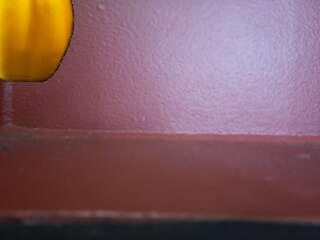Capsicum: (0, 0, 76, 84)
